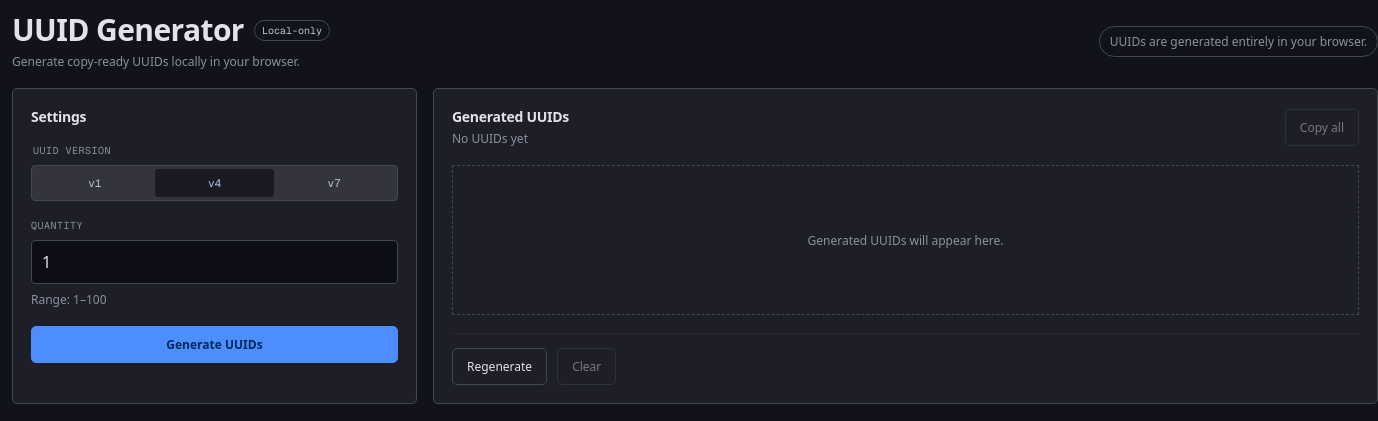
Test: UUID Generator - Level 1 core/common › generates the requested number of UUIDs from the primary action
Replace the text in the field labelled "Quantity" with "2" at (214, 262), box [31,240,398,284]
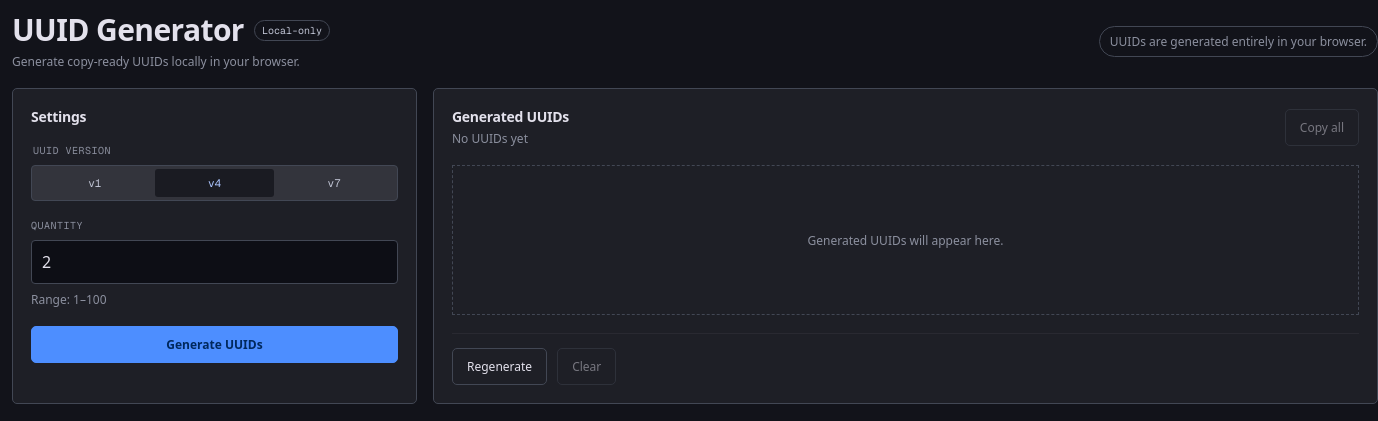
Click the button "Generate UUIDs" at (214, 344), box [31,326,398,363]
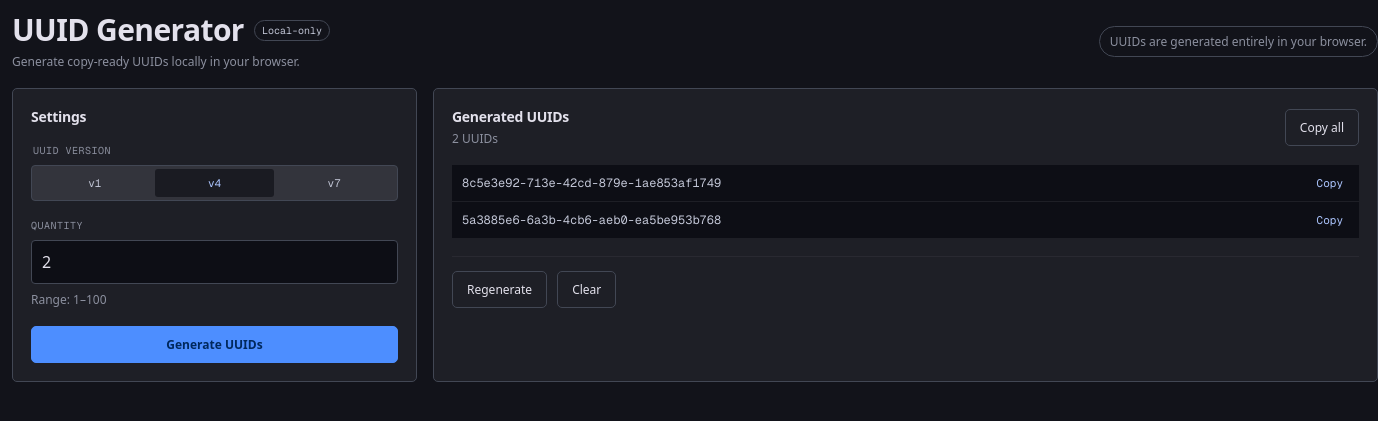
Result: the text "2 UUIDs" is shown at [452,130,498,147]
Result: the number of buttons "Copy" is 2 at [1311,175,1349,191]; [1311,212,1349,228]
